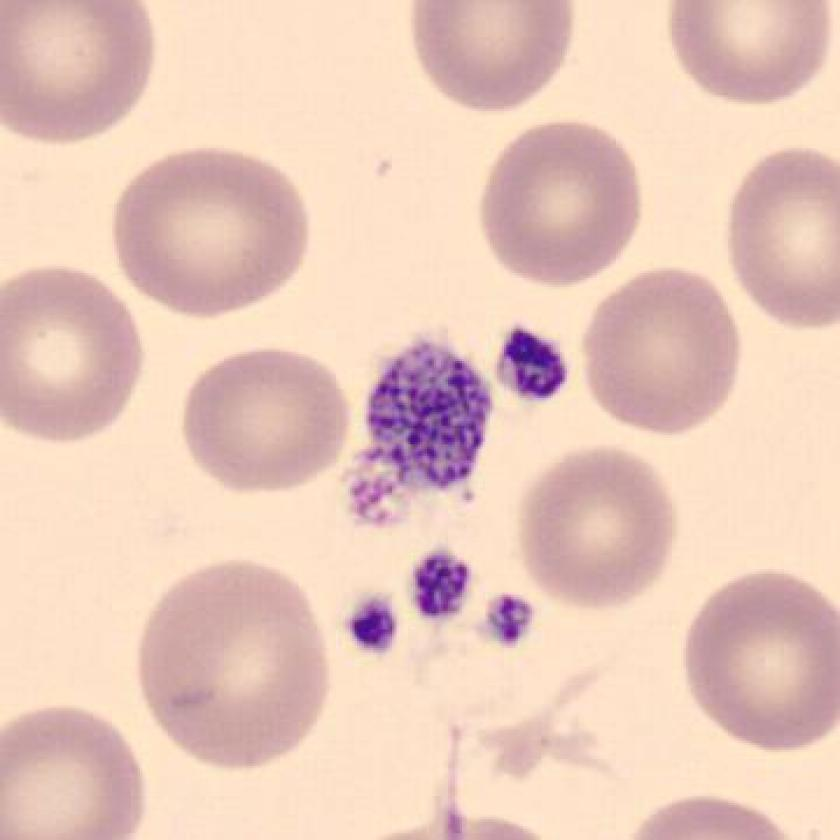platelets: (353, 325, 498, 531), (489, 318, 575, 413), (405, 543, 482, 631), (342, 589, 407, 660), (482, 589, 542, 654)
